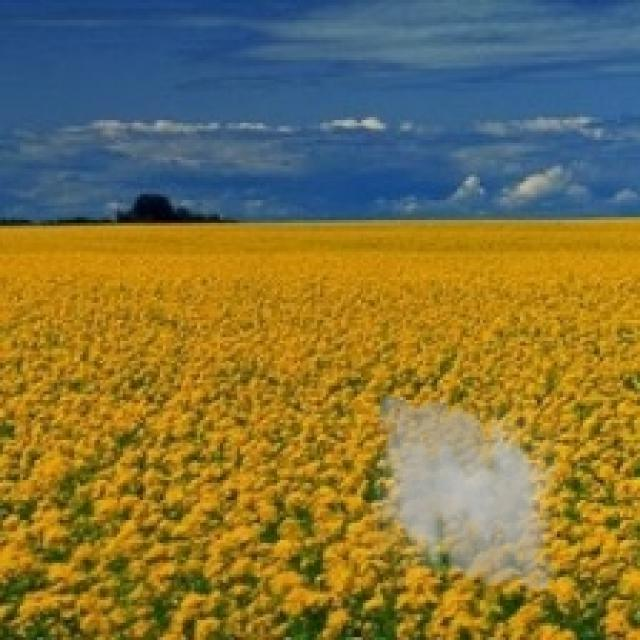smoke: (357, 386, 569, 600)
